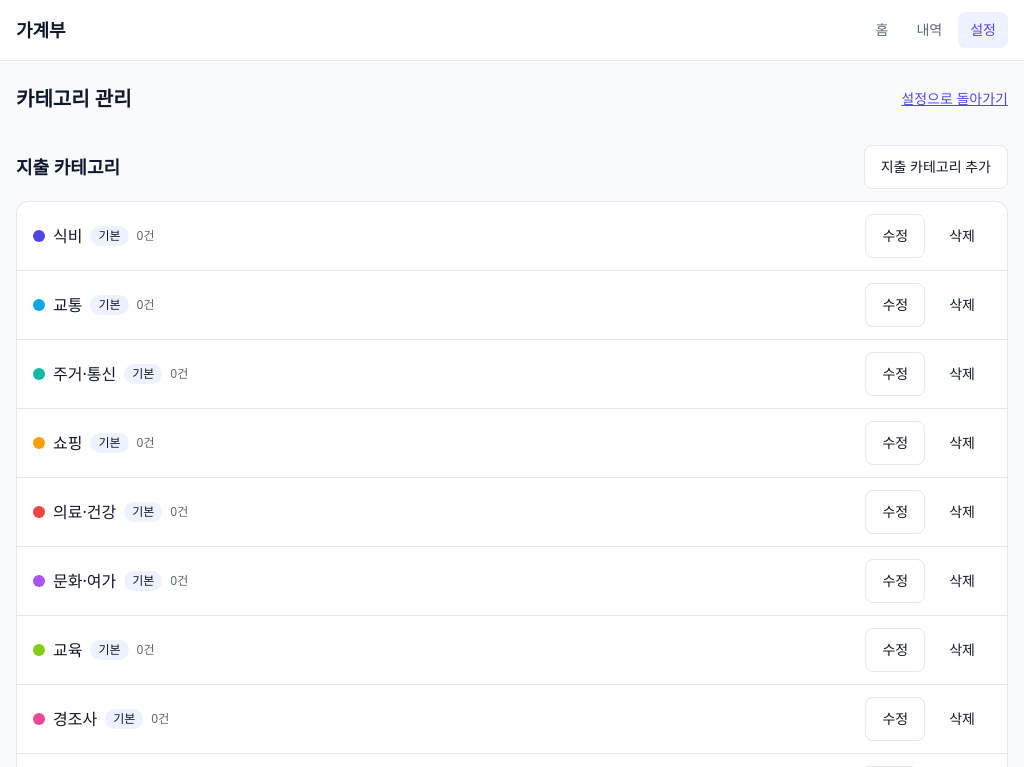
카테고리 추가·수정 › 이름과 색을 수정한다
Check: the heading "카테고리 관리" is shown, box left=16, top=85, right=132, bottom=113
Click the button with aria-label "지출 카테고리 식비 수정" at (895,236), box left=866, top=214, right=925, bottom=258
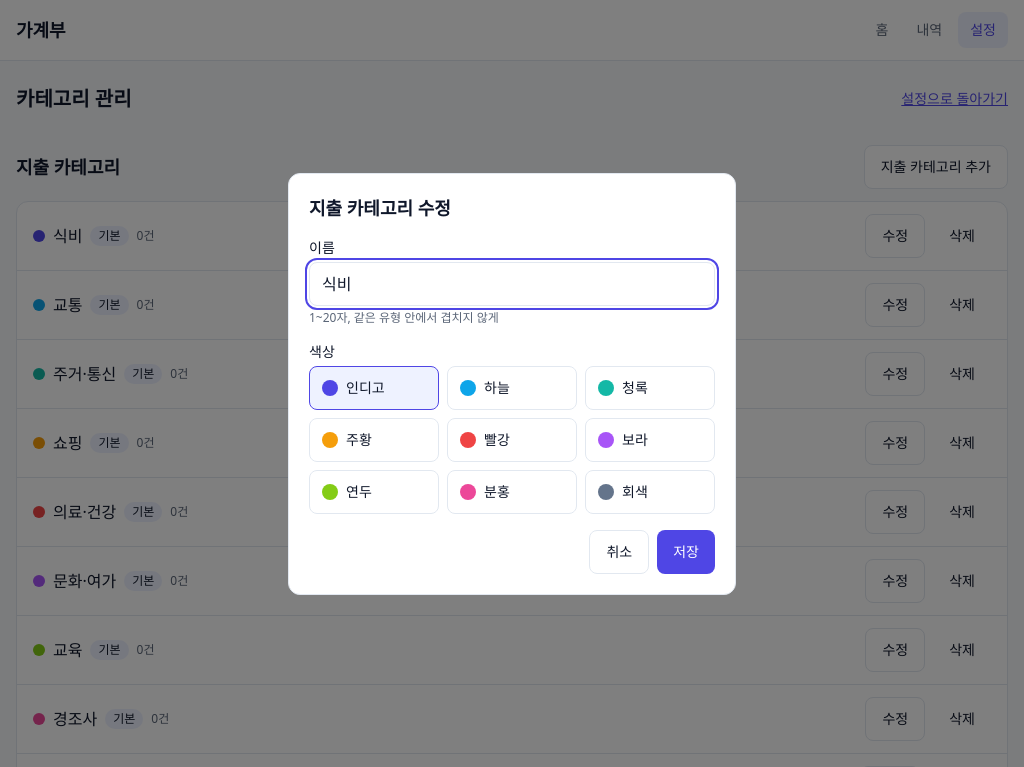
Check: the field labelled "이름" holds "식비"
Check: the radio button labelled "인디고" is checked, box left=309, top=366, right=439, bottom=410
Replace the text in the field labelled "이름" with "외식·식비" at (512,284), box left=309, top=262, right=715, bottom=306
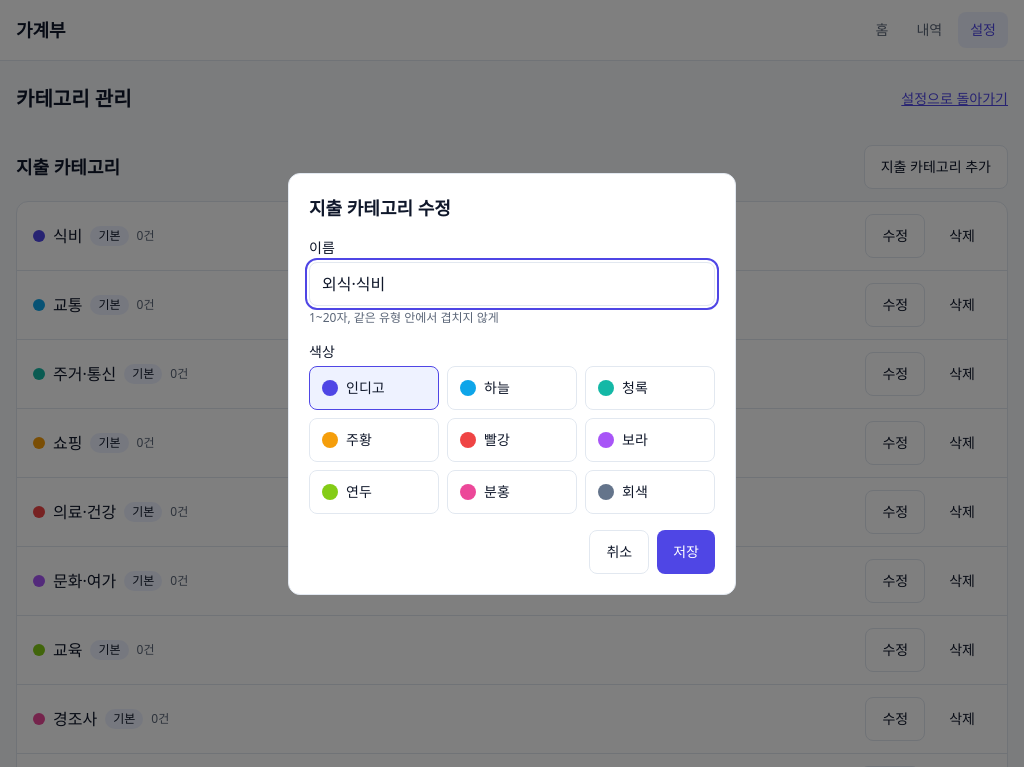
Click the radio button labelled "빨강" at (512,440), box left=447, top=418, right=577, bottom=462
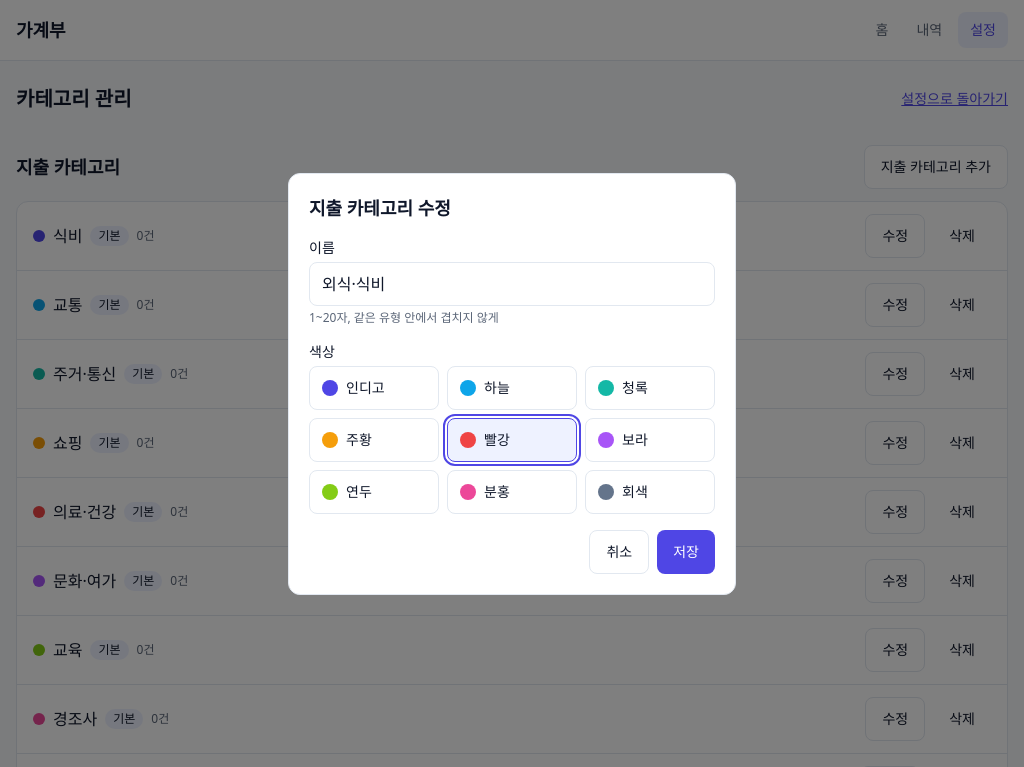
Click the button "저장" at (686,552), box left=657, top=530, right=715, bottom=574
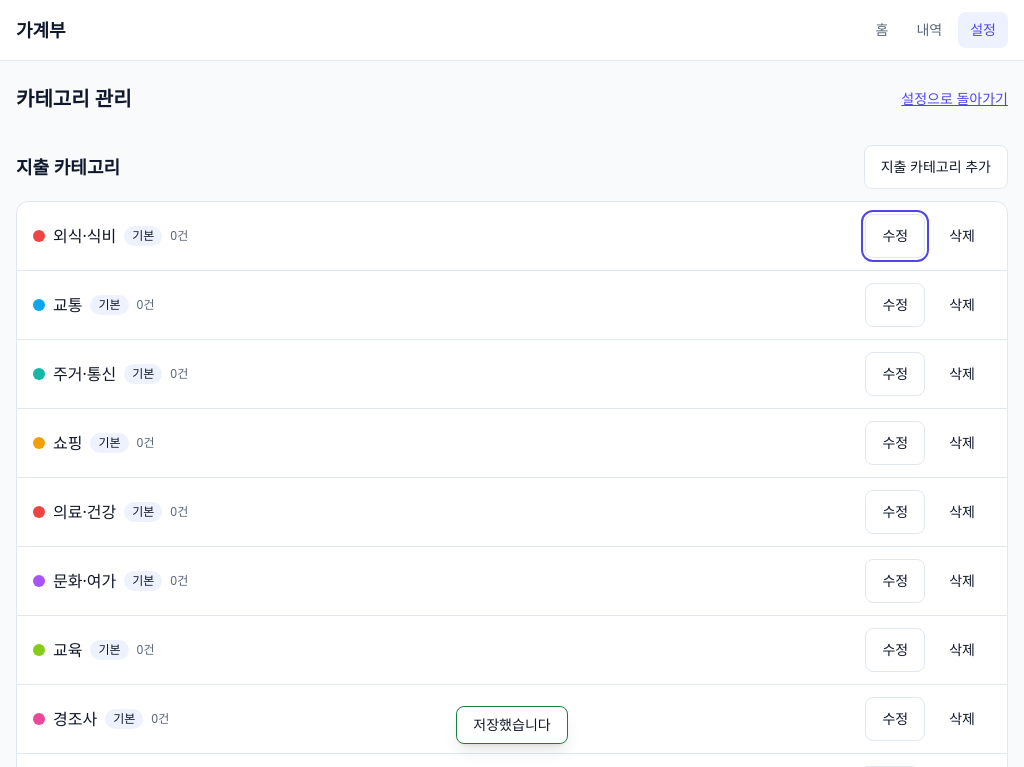
Check: the text with class "font-medium" reads "외식·식비", box left=53, top=225, right=116, bottom=247
